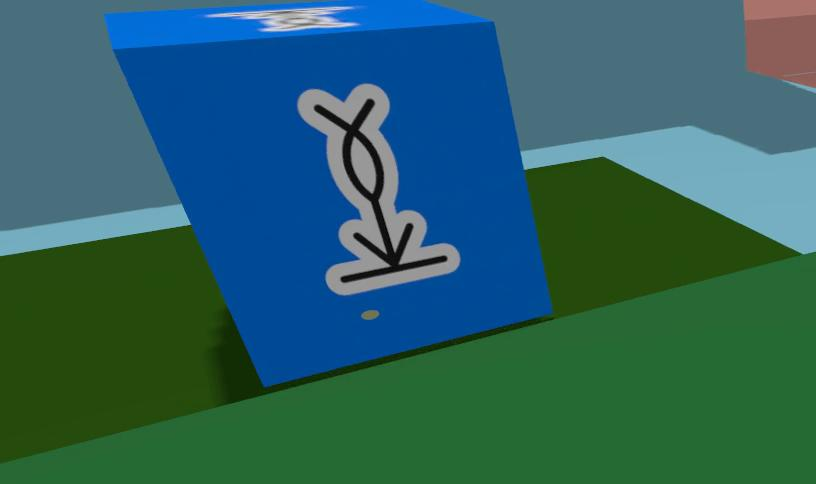KFS_REAL: (105, 0, 549, 383), (297, 84, 460, 295), (203, 6, 359, 32)
